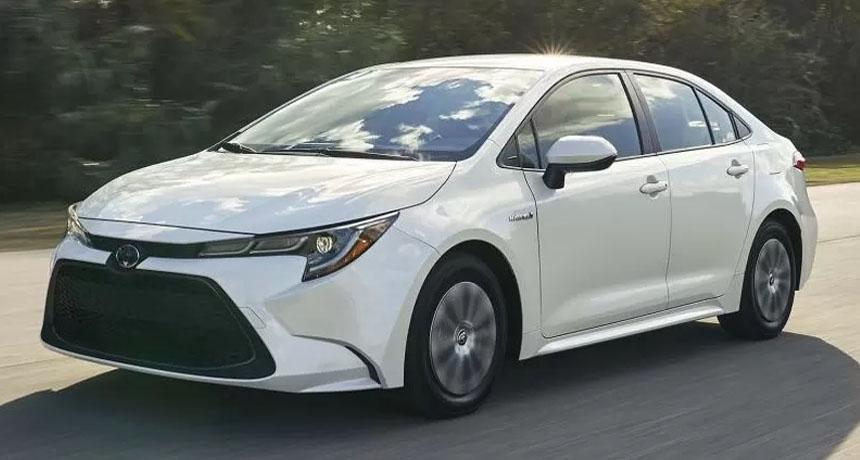Sedan: (27, 33, 837, 423)
